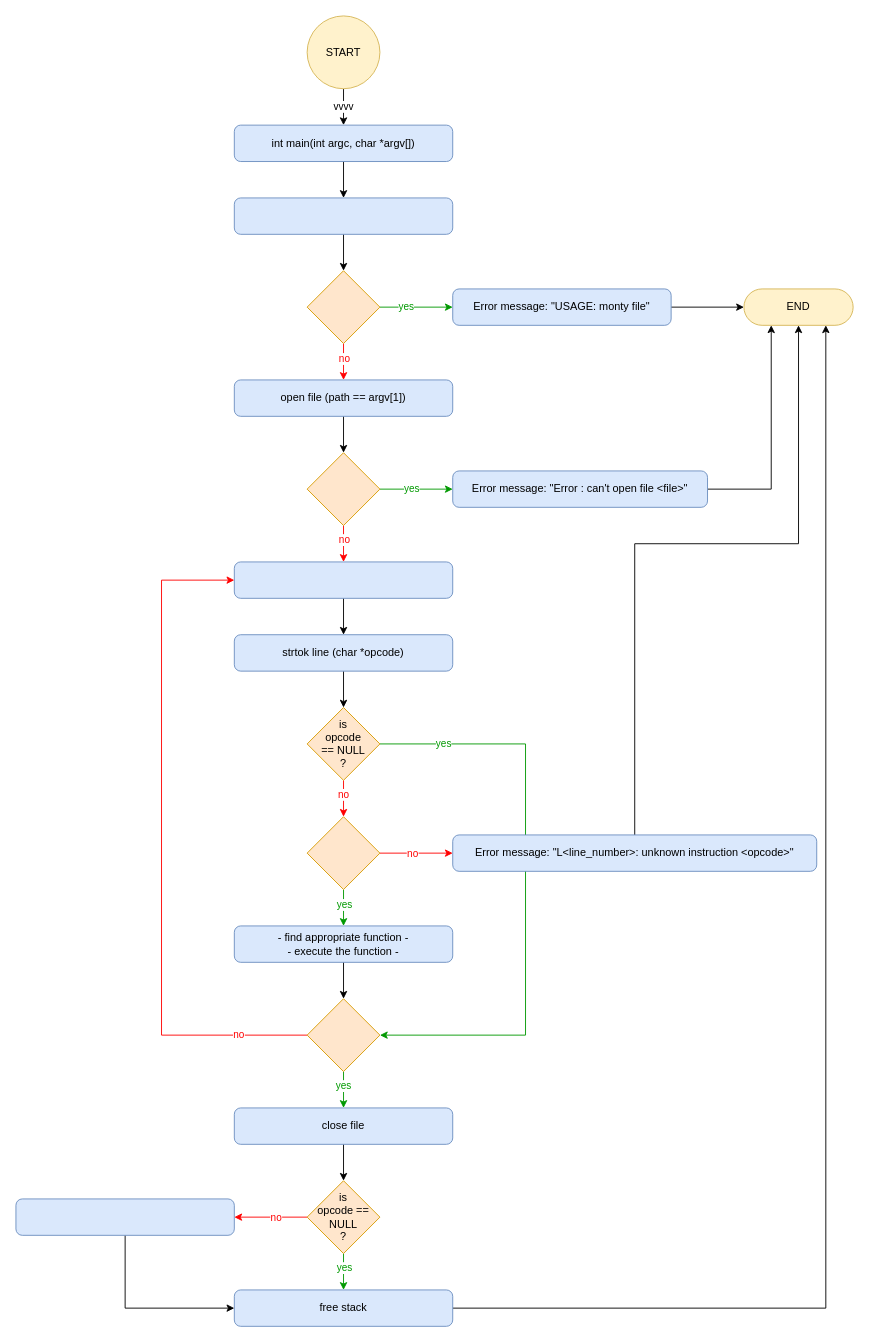
Some shapes in this 869 by 1342 pixel diagram are drawn without their labels. Here are the shapes that lost their labels. From the top down, the box of each, then its label:
(233, 197, 453, 234): initialize variables
(306, 270, 380, 344): is argc != 2 ?
(306, 452, 380, 526): is file == NULL ?
(233, 561, 453, 598): getline (char *line)
(306, 816, 380, 890): is opcode == instruction ?
(306, 998, 380, 1072): is file == EOF ?
(15, 1198, 234, 1235): free opcode
